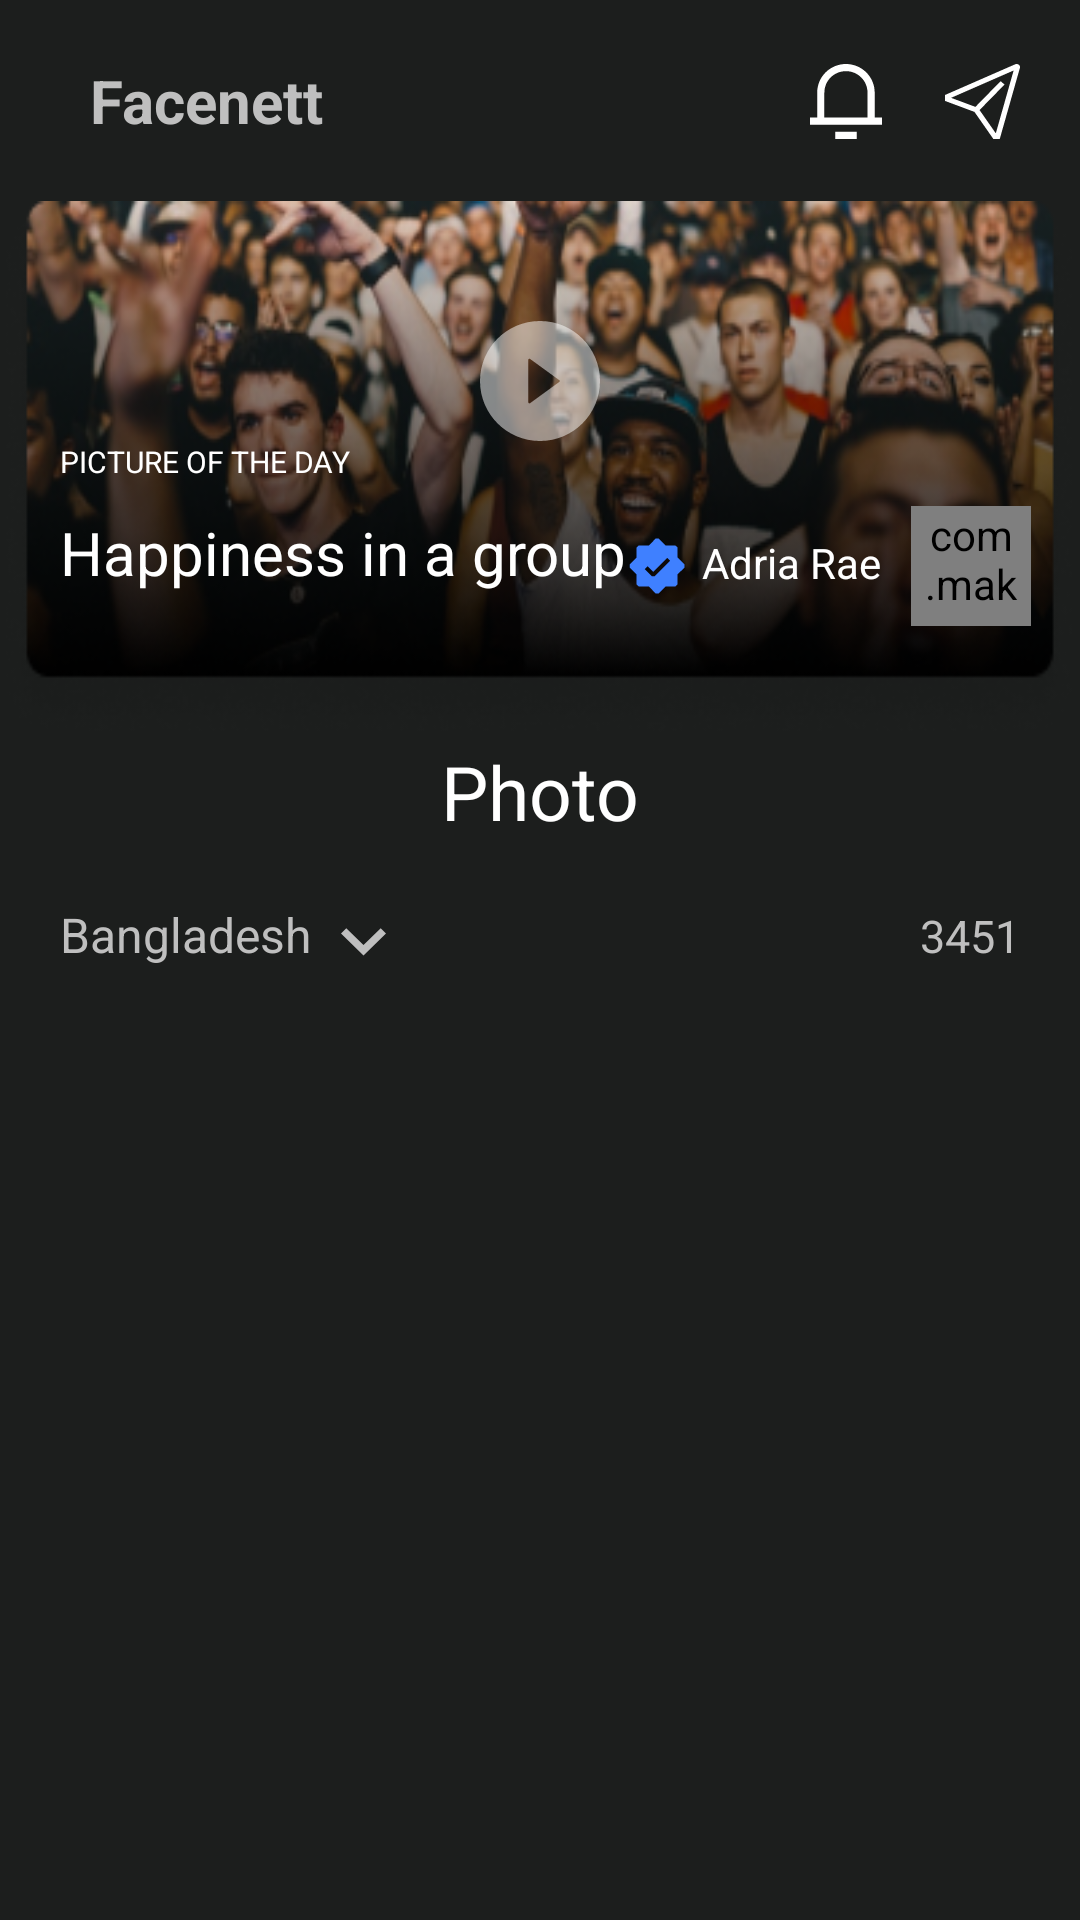

Screen size 1080w x 1920h. Icon name, then its center in pixels as (x,y):
down: (363,942)
mark: (657,566)
play: (540,381)
ring: (846,101)
